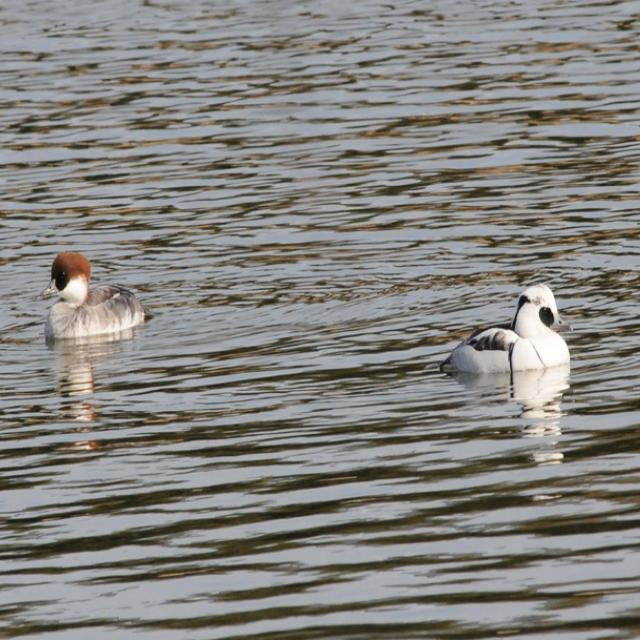bird: (435, 282, 571, 386), (35, 248, 159, 340)
